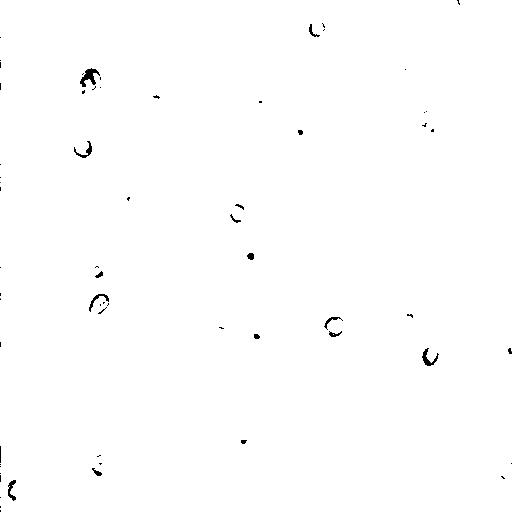micro-algae: (159, 0, 262, 90), (193, 168, 283, 256), (108, 0, 187, 73), (389, 261, 455, 329), (269, 0, 337, 53), (384, 6, 437, 62), (227, 16, 270, 60), (486, 240, 512, 309), (309, 272, 350, 315), (215, 288, 255, 327), (67, 63, 104, 103), (87, 452, 120, 485), (391, 303, 423, 335), (113, 187, 144, 220), (398, 51, 426, 80), (415, 109, 443, 137), (242, 321, 270, 349), (245, 87, 275, 112), (4, 477, 30, 505), (50, 230, 74, 259), (288, 113, 311, 142), (89, 290, 111, 317), (322, 315, 347, 337), (494, 399, 511, 431), (240, 244, 263, 267), (233, 432, 256, 455), (74, 137, 95, 160), (414, 214, 433, 238), (86, 261, 107, 282), (421, 343, 441, 365), (494, 462, 511, 487), (228, 203, 248, 223), (309, 17, 327, 39), (1, 62, 13, 89), (456, 0, 471, 8)
